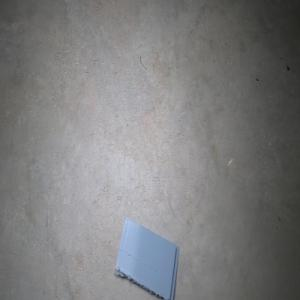PlasticPart: (113, 216, 179, 300)
